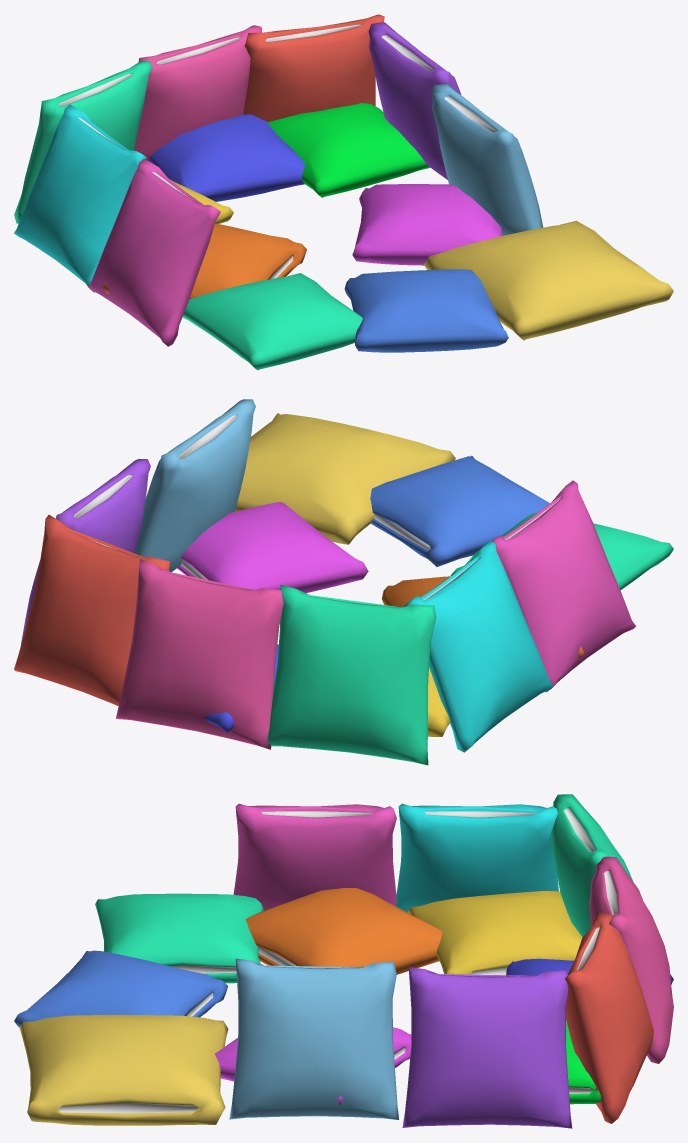
The model's file is props_pillow_cabane.fbx.
3 renders of one model, top to bottom at view 1: azimuth 30°, elevation 25°; view 2: azimuth 150°, elevation 25°; view 3: azimuth 270°, elevation 25°, orthographic. The views are drawn at different scales.
Parts seen in each view (by area): view 1: props_pillow_cabane; view 2: props_pillow_cabane; view 3: props_pillow_cabane.
Part boxes in pixels (bbox=[...]): props_pillow_cabane: bbox=[14, 14, 673, 370]; props_pillow_cabane: bbox=[14, 399, 673, 765]; props_pillow_cabane: bbox=[14, 794, 673, 1128].
Size of the model in its own units: 4.66 by 5.71 by 1.49.
